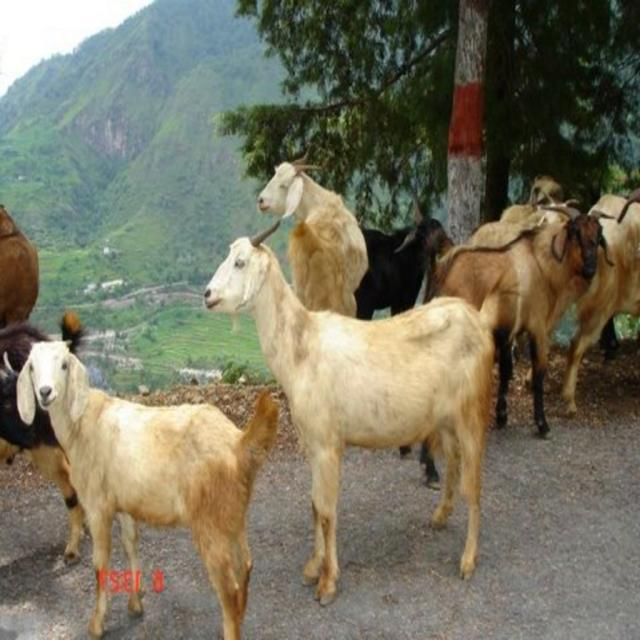Goat: (205, 217, 498, 605), (2, 311, 280, 639), (405, 194, 616, 486), (498, 177, 640, 416), (1, 310, 91, 565), (1, 200, 40, 332)
